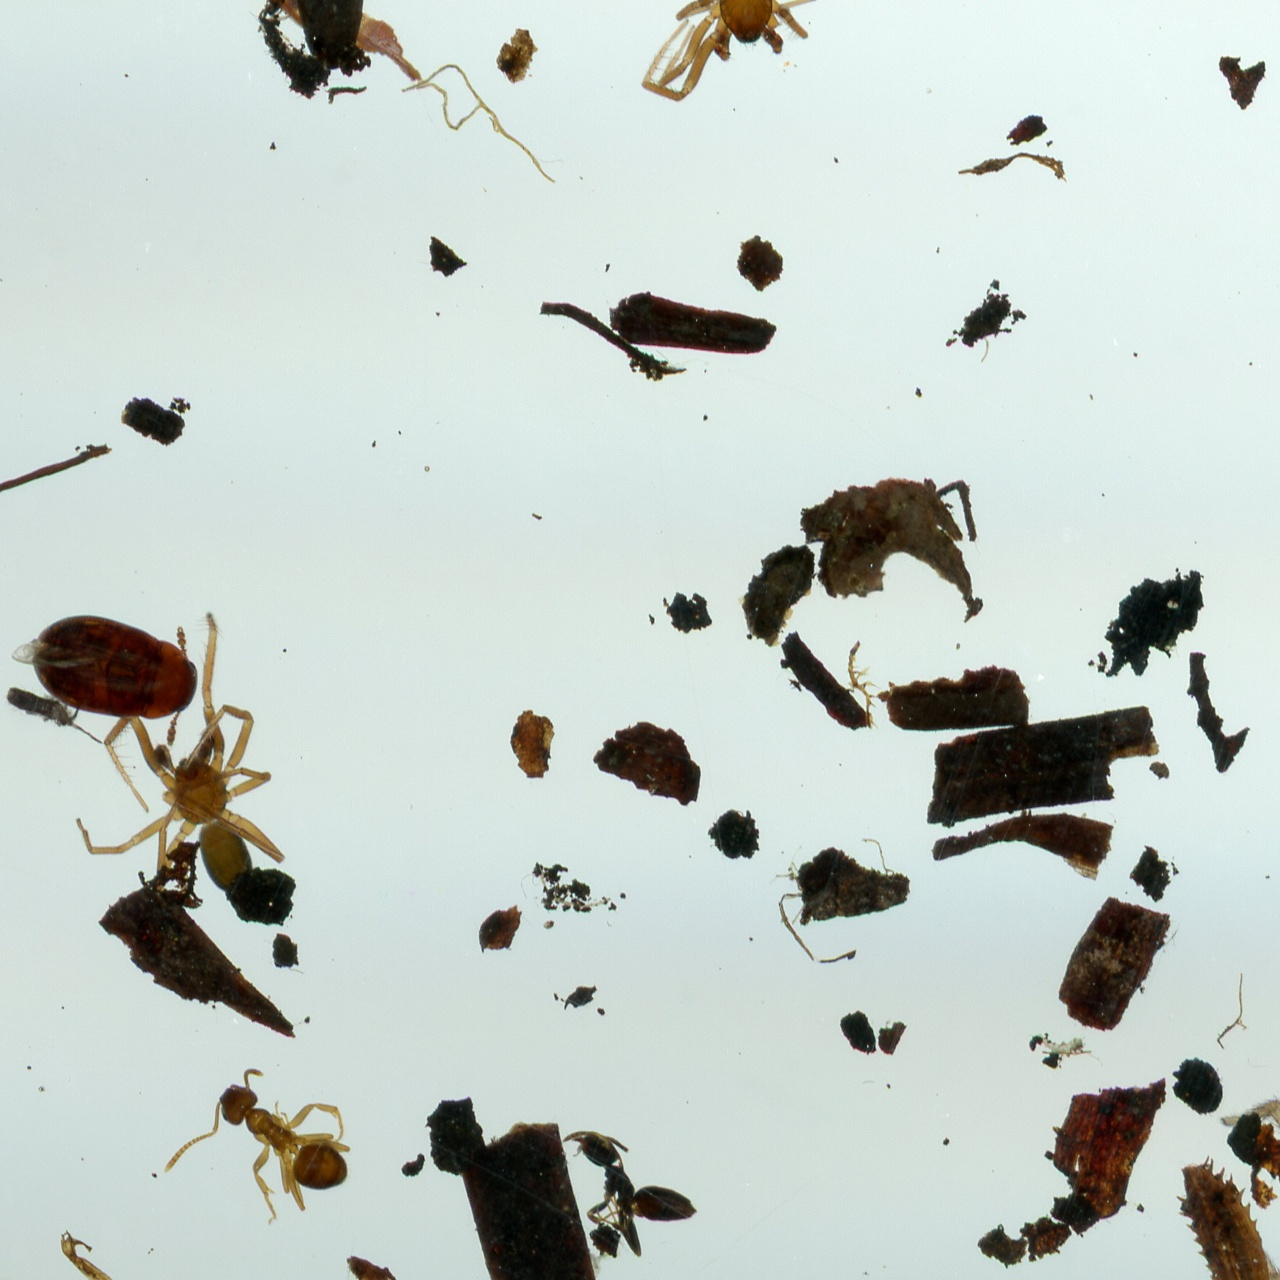arthropod: (80, 603, 310, 890), (162, 1063, 352, 1228), (15, 611, 201, 728), (640, 0, 820, 103), (569, 1128, 697, 1259), (1222, 1056, 1280, 1280), (0, 682, 101, 749)
